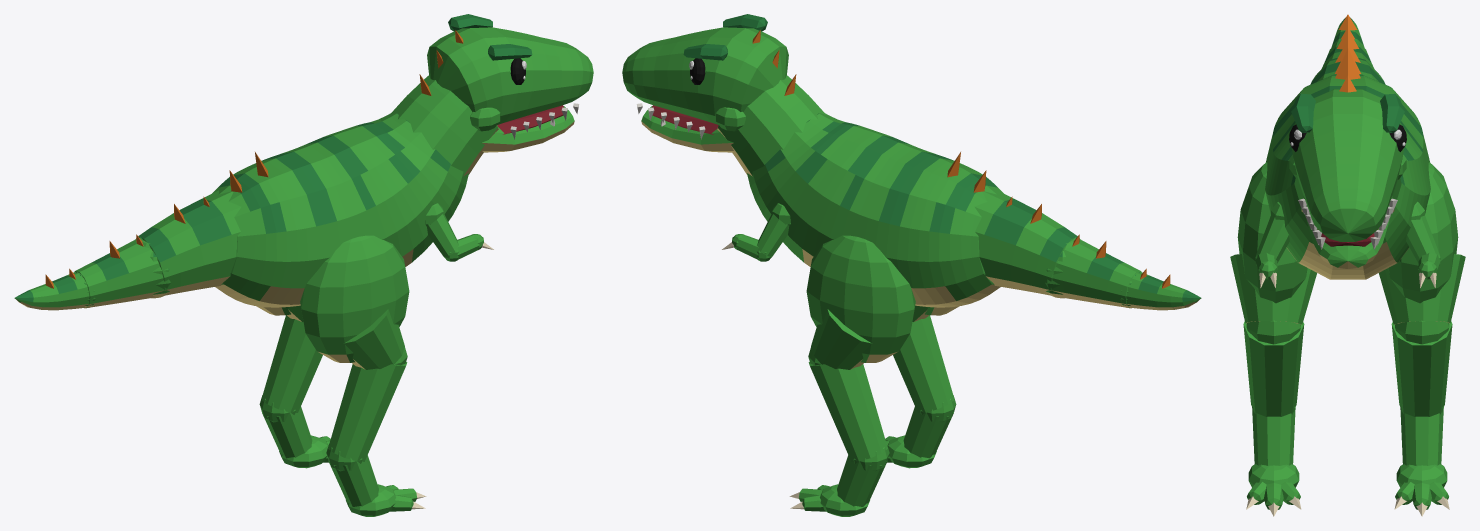
The model's file is trex.glb.
The picture shows the model from 3 angles, left to right: view 1: azimuth 30°, elevation 25°; view 2: azimuth 150°, elevation 25°; view 3: azimuth 270°, elevation 25°; orthographic projection. The views are drawn at different scales.
Parts seen in each view (by area): view 1: body, head, leg_r, tail, leg_l, tail_2, tail_3, arm_r; view 2: body, head, leg_l, tail, leg_r, tail_2, tail_3, arm_l; view 3: head, leg_l, leg_r, body, arm_l, arm_r, tail, tail_2, tail_3.
Part boxes in pixels (x1,y1,x2,y2): body: (212,113,468,307); head: (390,14,593,175); leg_r: (300,235,426,516); tail: (136,190,241,295); leg_l: (257,305,330,468); tail_2: (74,234,170,307); tail_3: (14,268,95,310); arm_r: (425,203,493,261); body: (747,113,1003,307); head: (622,14,825,176); leg_l: (789,235,915,516); tail: (974,190,1079,295); leg_r: (885,305,958,468); tail_2: (1045,234,1141,307); tail_3: (1120,268,1201,310); arm_l: (722,203,790,261); head: (1289,75,1406,268); leg_l: (1379,162,1465,516); leg_r: (1230,162,1316,516); body: (1265,48,1430,279); arm_l: (1406,201,1440,287); arm_r: (1255,202,1289,287); tail: (1310,40,1385,84); tail_2: (1321,29,1374,68); tail_3: (1331,14,1364,47).
Bounding box in the file's own units: 3.88 × 2.78 × 1.24.
